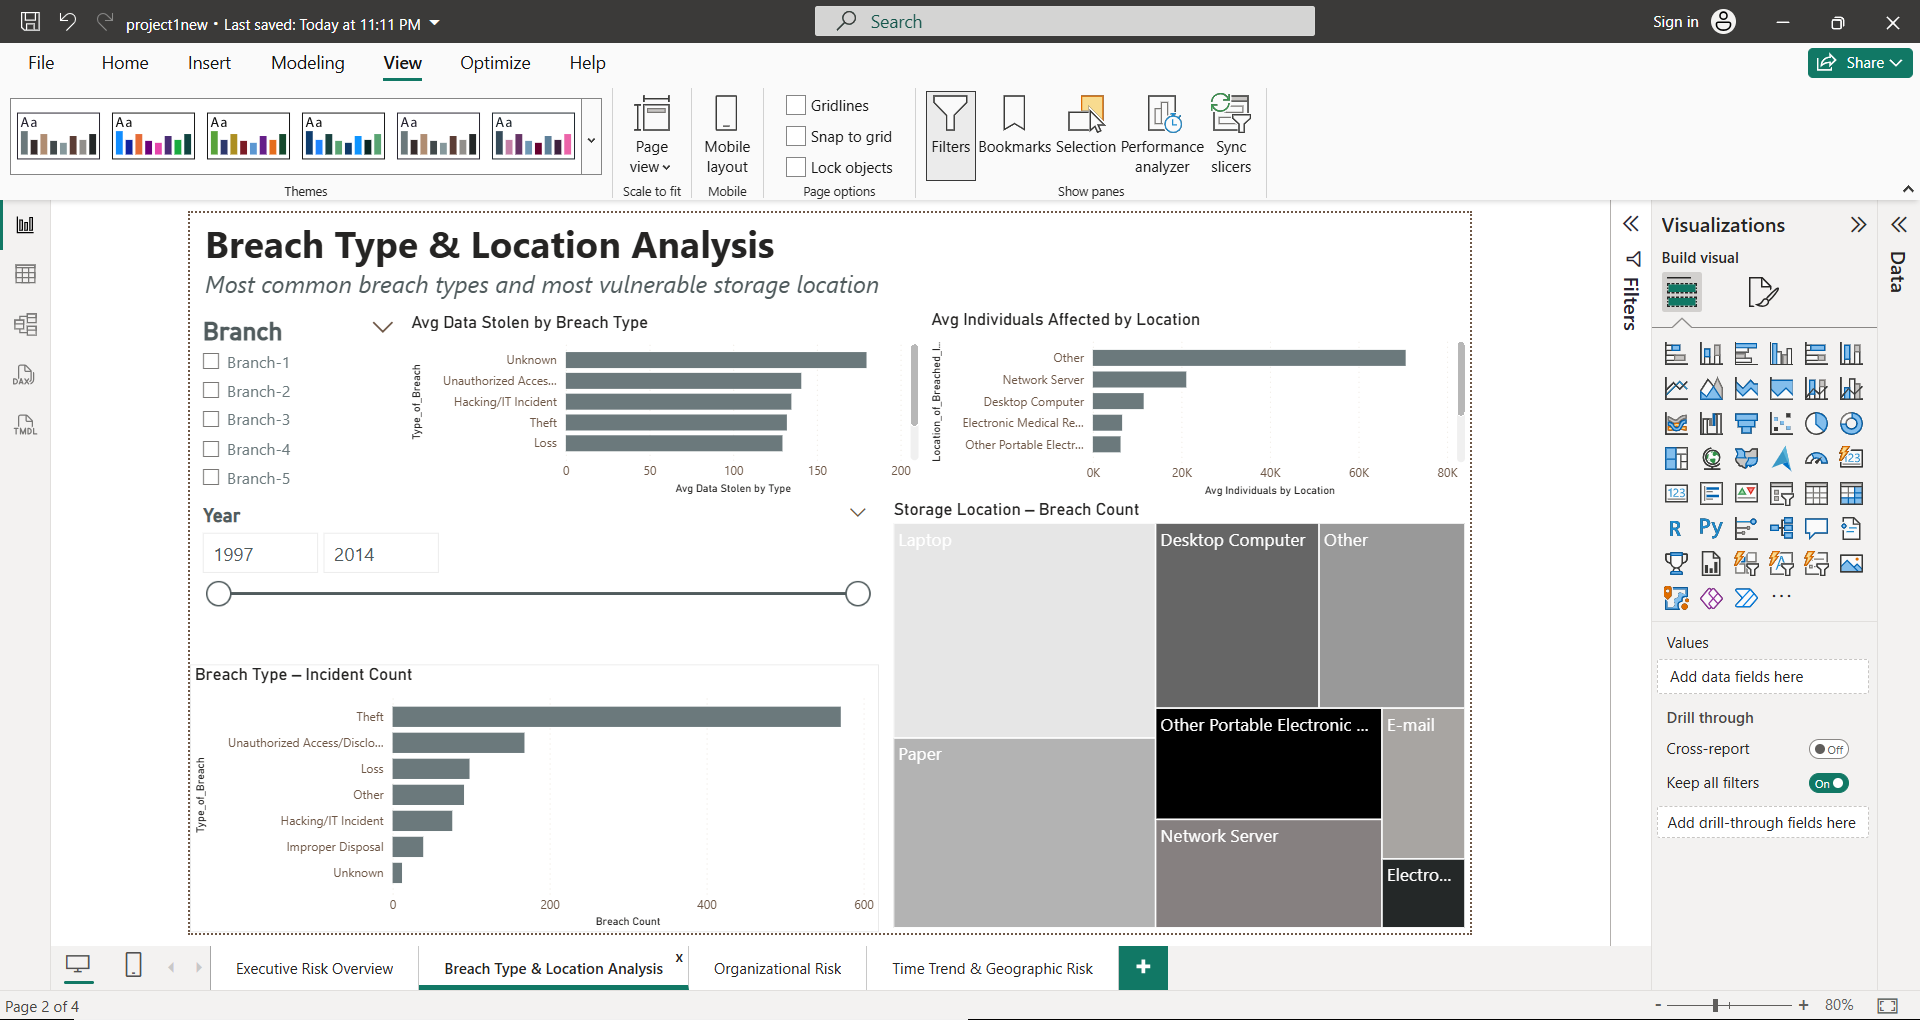

What the dashboard file says about the page in this screenshot:
{"tool":"powerbi","page":{"name":"Breach Type & Location Analysis","canvas":[1280,720],"ordinal":1},"visuals":[{"type":"textbox","box":[10,0,688.9,98.9],"z":0},{"type":"clusteredBarChart","title":"Breach Type – Incident Count","fields":{"Category":["Final Transformed Data.Type_of_Breach"],"Y":["Dashboard Measures.Breach Count"]},"box":[0,451.2,688.8,268.8],"z":1000},{"type":"treemap","title":"Storage Location – Breach Count","fields":{"Group":["Final Transformed Data.Location_of_Breached_Information"],"Values":["Dashboard Measures.Breach Count"]},"box":[698.8,286.2,581.2,433.8],"z":2000},{"type":"clusteredBarChart","title":"Avg Individuals Affected by Location","fields":{"Category":["Final Transformed Data.Location_of_Breached_Information"],"Y":["Dashboard Measures.Avg Individuals by Location"]},"box":[736,96,544,192],"z":3000},{"type":"clusteredBarChart","title":"Avg Data Stolen by Breach Type","fields":{"Category":["Final Transformed Data.Type_of_Breach"],"Y":["Dashboard Measures.Avg Data Stolen by Type"]},"box":[216.2,98.8,517.5,187.5],"z":4000},{"type":"slicer","fields":{"Values":["Final Transformed Data.Branch"]},"box":[0,98.8,216.2,187.5],"z":5000},{"type":"slicer","fields":{"Values":["Final Transformed Data.Year"]},"box":[0,286.2,688.8,165],"z":6000}]}

Visuals, with their boxes on the page's 1280x720 design canvas (x1, y1, x2, y2). These are canvas units, not pixel positions in the 1920x1020 screenshot, which may show the page scaled, cropped or inside an application window:
textbox: {"left": 10, "top": 0, "right": 699, "bottom": 99}
"Breach Type – Incident Count" clusteredBarChart: {"left": 0, "top": 451, "right": 689, "bottom": 720}
"Storage Location – Breach Count" treemap: {"left": 699, "top": 286, "right": 1280, "bottom": 720}
"Avg Individuals Affected by Location" clusteredBarChart: {"left": 736, "top": 96, "right": 1280, "bottom": 288}
"Avg Data Stolen by Breach Type" clusteredBarChart: {"left": 216, "top": 99, "right": 734, "bottom": 286}
slicer - Final Transformed Data.Branch: {"left": 0, "top": 99, "right": 216, "bottom": 286}
slicer - Final Transformed Data.Year: {"left": 0, "top": 286, "right": 689, "bottom": 451}
